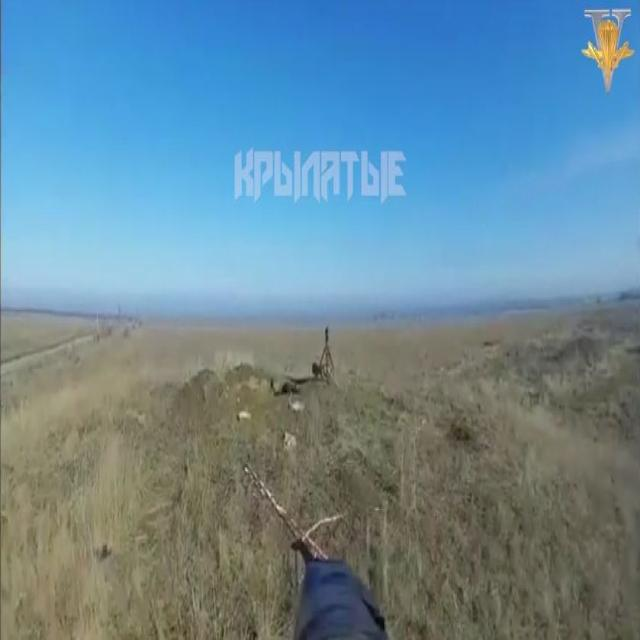vehicle: (302, 314, 362, 402)
